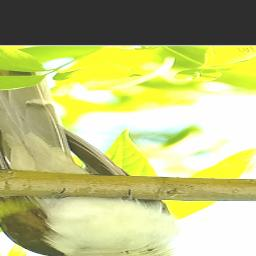Cuckoo: (0, 50, 223, 256)
